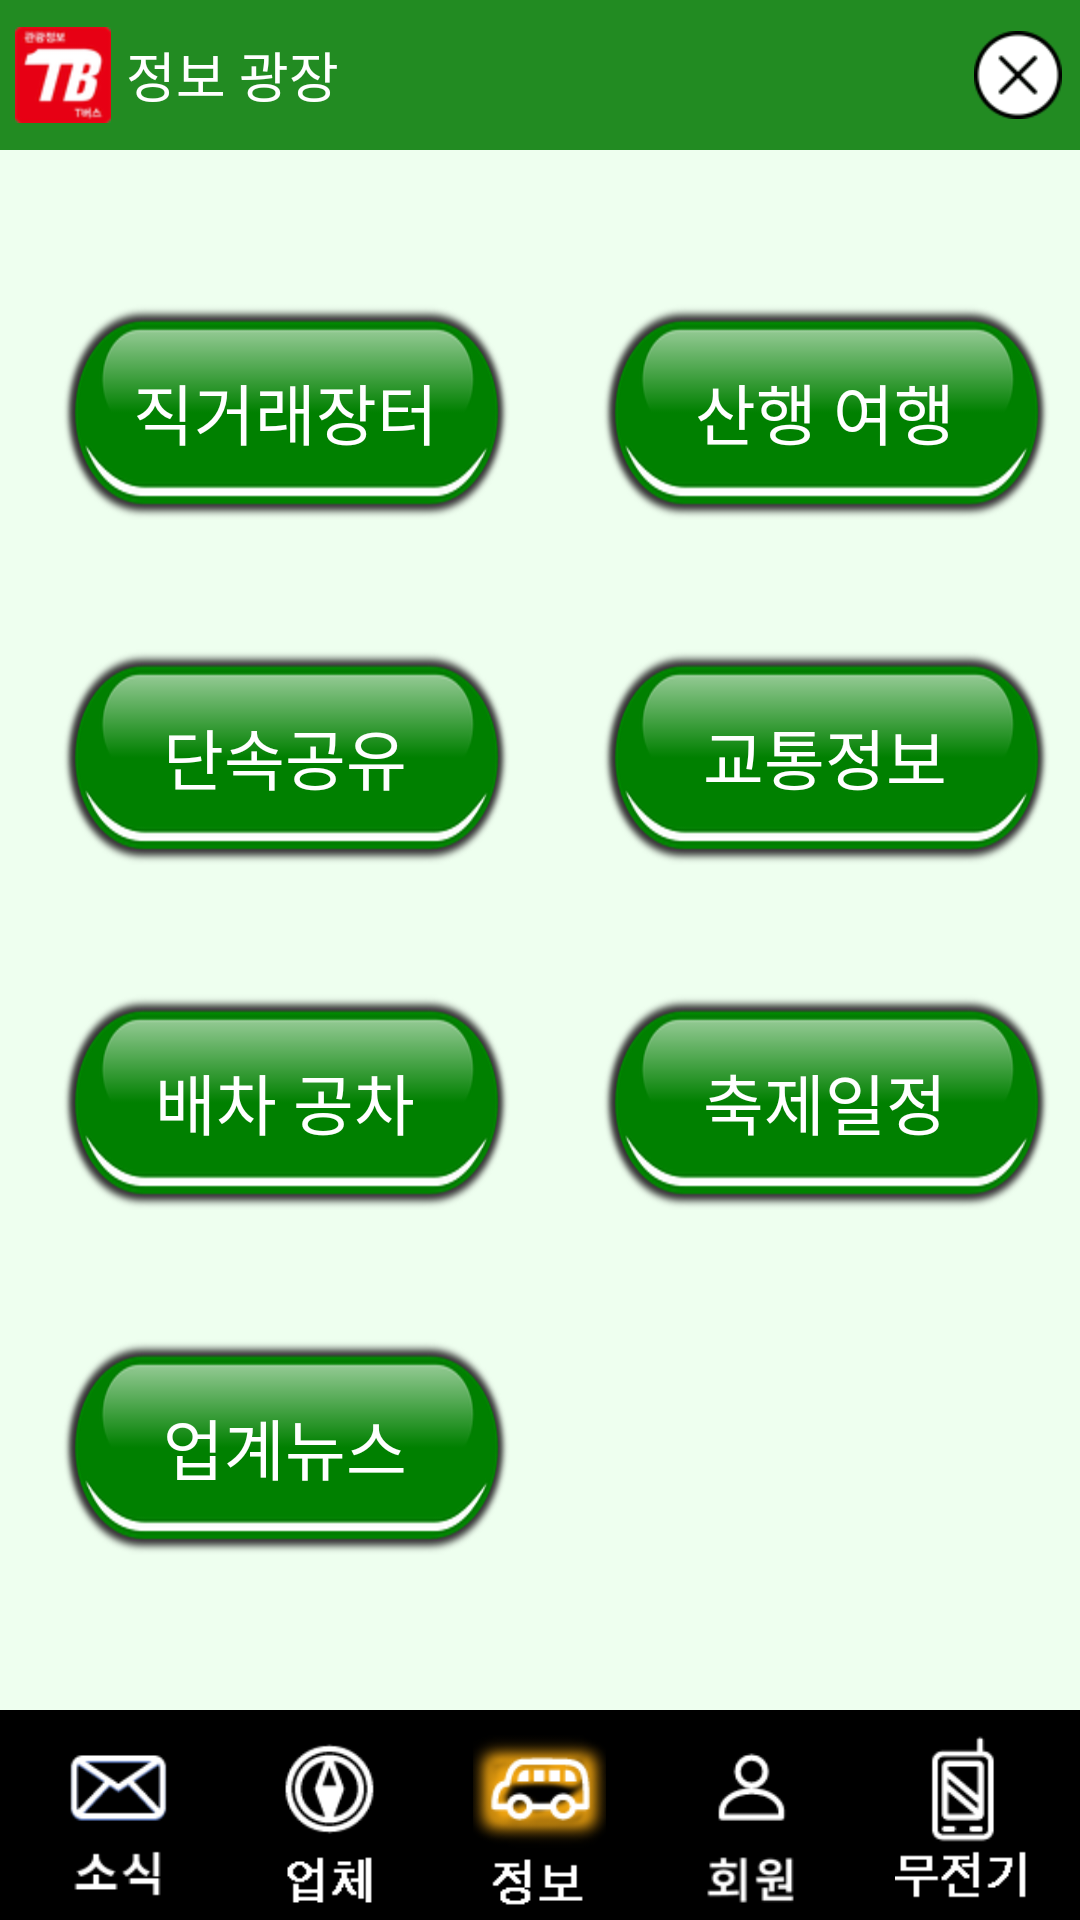

Locate icon controls on the screen. Image size 1080w x 1920h, boxes as (x1, y1, x2, y2).
xbutton: (974, 31, 1062, 119)
